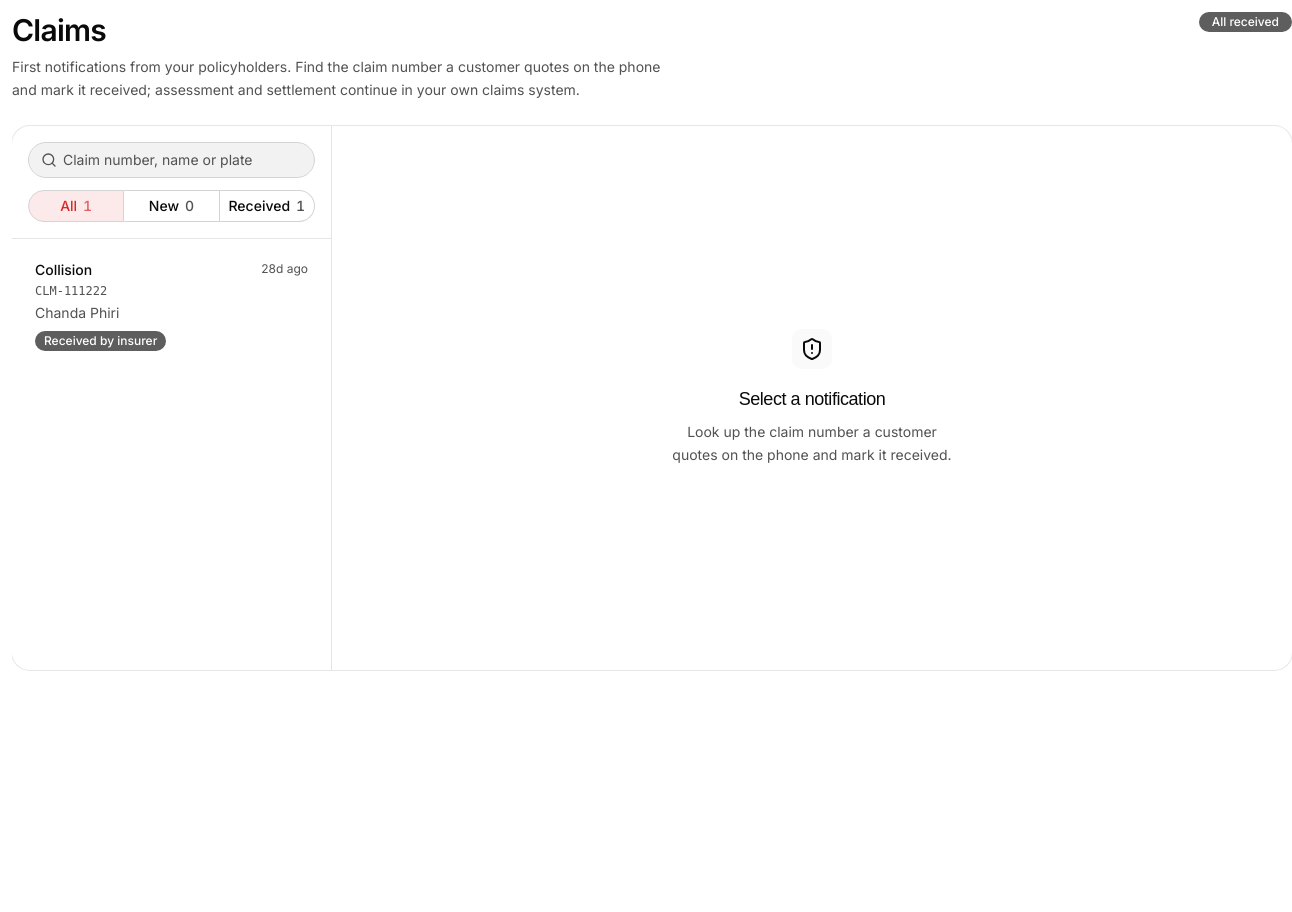
Test: ClaimsTab › leaves out what the customer did not give instead of listing blanks
What coordinates should you click on to do the following:
click the button "CLM-111222"
I would click on:
 (64, 269)
Its box is [20,246,323,364].
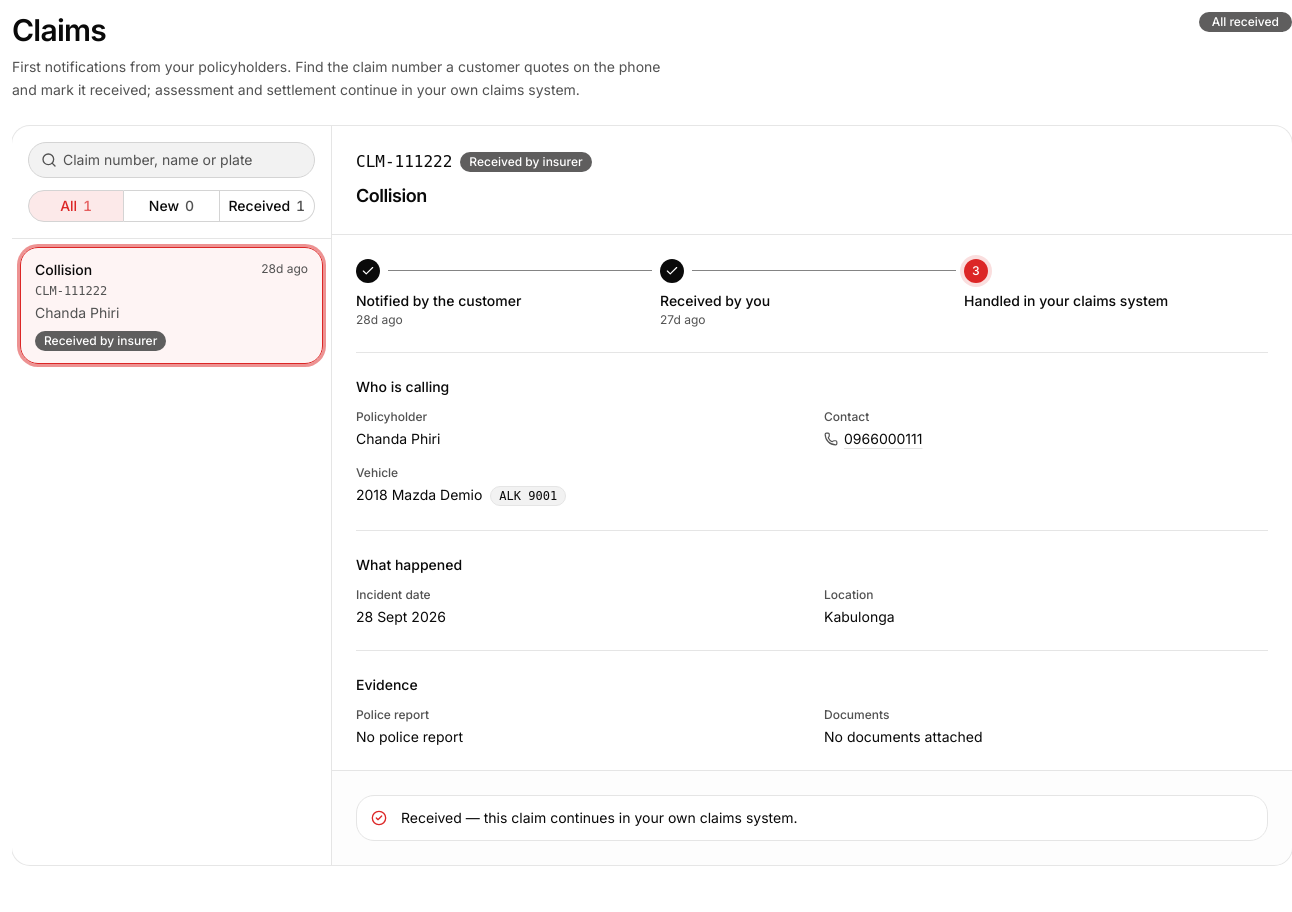
Now the text "No police report" is shown, box [356,728,463,745]
Now the text "No documents attached" is shown, box [824,728,983,745]
